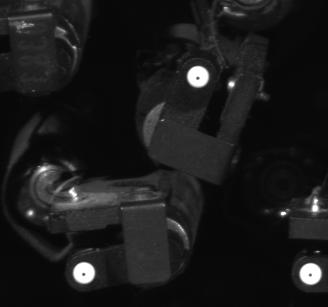fiber: (296, 258, 326, 290), (182, 62, 213, 90), (69, 259, 100, 287)
